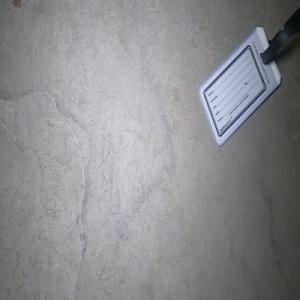LuggageTag: (197, 6, 300, 148)
